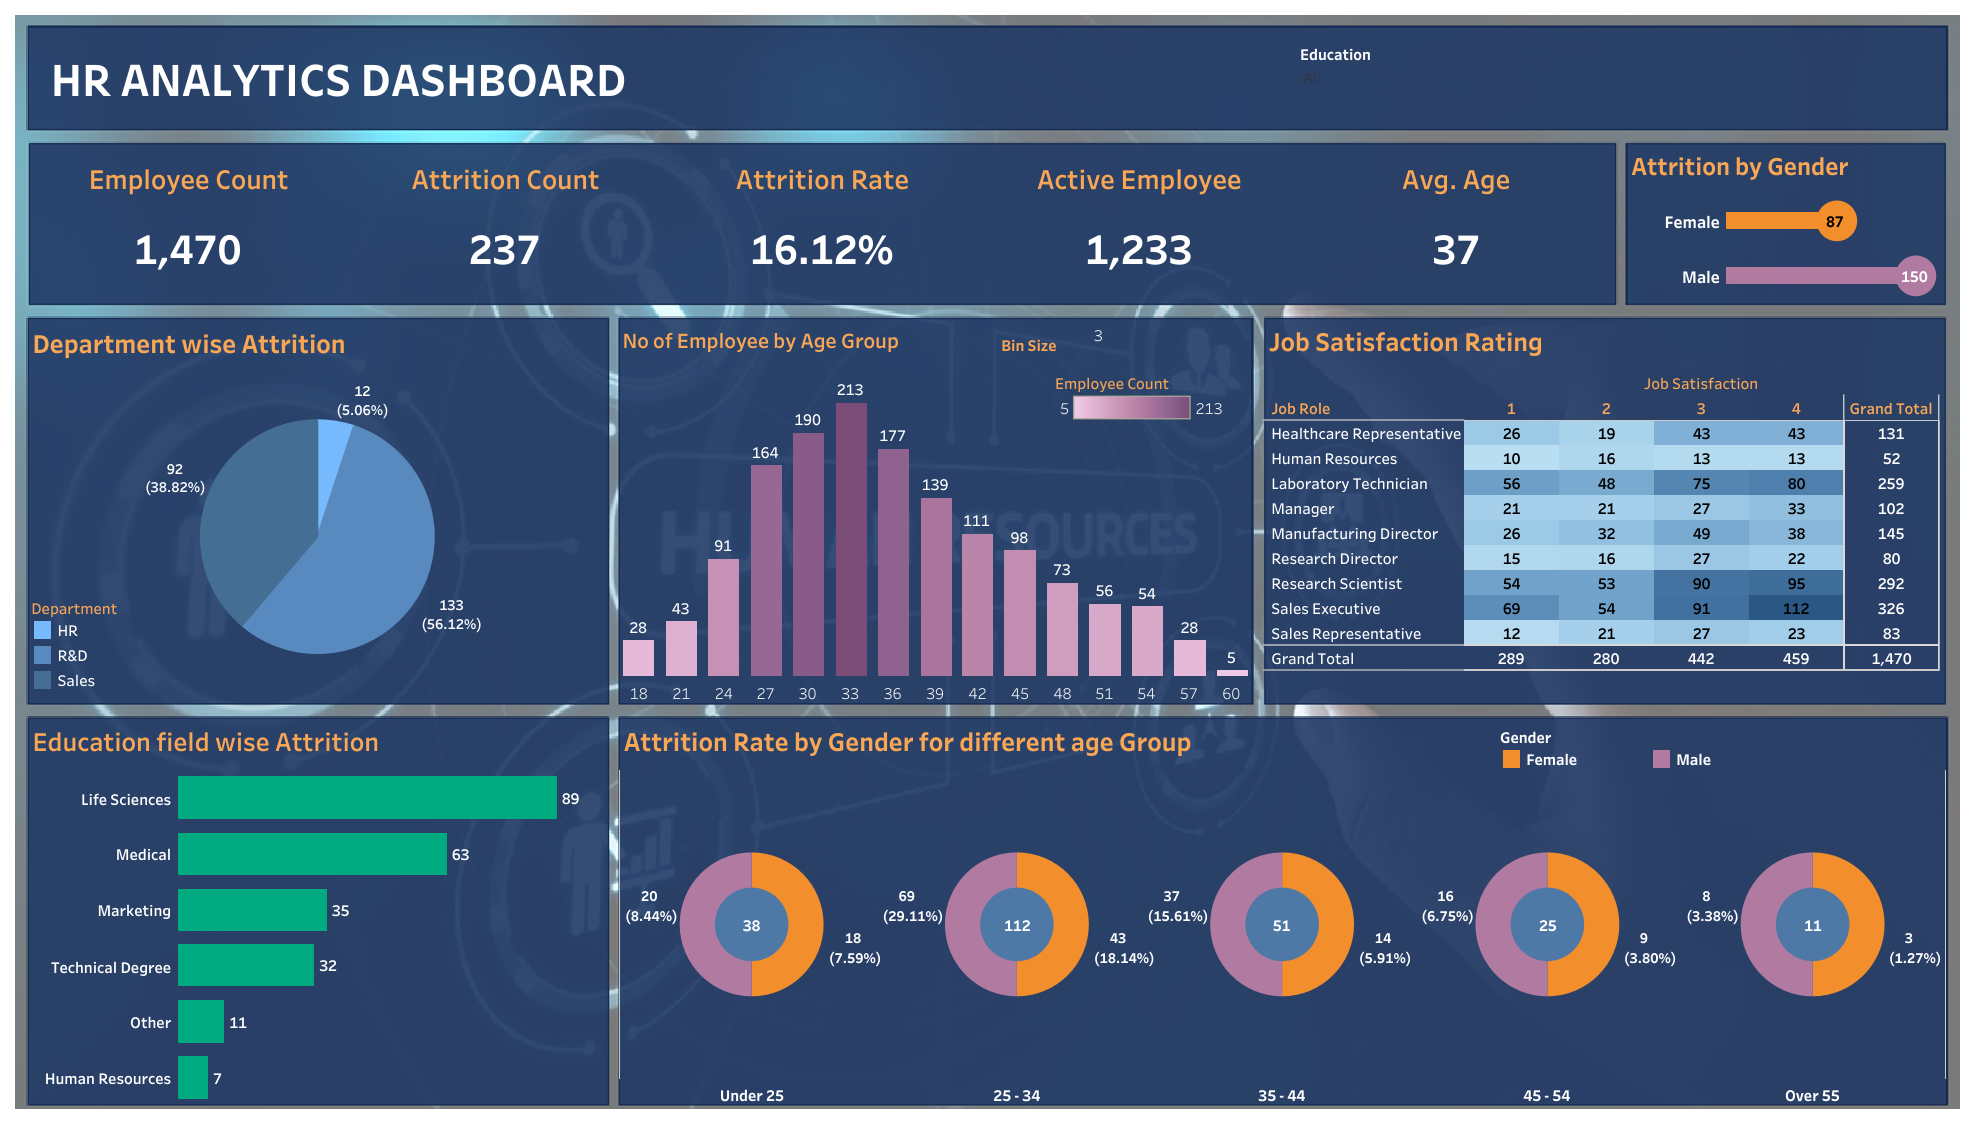

The dashboard page shown, as its layout file describes it:
{"tool":"tableau","page":{"name":"HR ANALYTICS DASHBOARD","canvas":[1580,900],"ordinal":0},"visuals":[{"type":"image","param":"Image/HR Dashboard.png","box":[8,8,1564,884]},{"type":"text","box":[38,24,682,77]},{"type":"filter","title":"Department wise Attrition","param":"[federated.023ztoj037qndx1dsdrbn1u9wdol].[none:Education:nk]","box":[1040,33,246,61]},{"type":"worksheet","title":"Attrition by Gender","mark":"Automatic","rows":["Gender"],"cols":["Calculation_822188459262783488","Calculation_822188459262783488"],"box":[1301,113,256,129]},{"type":"worksheet","title":"KPI","mark":"Automatic","box":[24,117,1268,122]},{"type":"worksheet","title":"Job Satisfaction Rating","mark":"Square","rows":["Job Role"],"cols":["Job Satisfaction"],"box":[1011,253,545,310]},{"type":"worksheet","title":"Department wise Attrition","mark":"Pie","box":[22,254,463,308]},{"type":"worksheet","title":"No of Employee by Age Group","mark":"Automatic","rows":["Employee Count"],"cols":["Age (bin)"],"box":[494,254,508,309]},{"type":"parameter","param":"[Parameters].[Parameter 1]","box":[801,259,197,34]},{"type":"legend","title":"No of Employee by Age Group","param":"[federated.023ztoj037qndx1dsdrbn1u9wdol].[sum:Employee Count:qk]","box":[844,293,139,48]},{"type":"legend","title":"Department wise Attrition","param":"[federated.023ztoj037qndx1dsdrbn1u9wdol].[none:Department:nk]","box":[24,475,140,85]},{"type":"worksheet","title":"Education field wise Attrition","mark":"Bar","rows":["Education Field"],"cols":["Calculation_822188459262783488"],"box":[22,573,464,311]},{"type":"worksheet","title":"Attrition Rate by Gender for different age Group","mark":"Pie","rows":["Calculation_1724034284784181254","Calculation_1724034284784300040"],"cols":["CF_age band"],"box":[495,573,1062,313]},{"type":"legend","title":"Attrition Rate by Gender for different age Group","param":"[federated.023ztoj037qndx1dsdrbn1u9wdol].[none:Gender:nk]","box":[1199,578,356,43]}]}

Visuals, with their boxes in screenshot pixels (x1, y1, x2, y2), scaled from the page's 1580x900 canvas onto the 1974x1124 screenshot:
image: bbox=(10, 10, 1964, 1114)
text: bbox=(47, 30, 900, 126)
"Department wise Attrition" filter: bbox=(1299, 41, 1607, 117)
"Attrition by Gender" worksheet: bbox=(1625, 141, 1945, 302)
"KPI" worksheet: bbox=(30, 146, 1614, 298)
"Job Satisfaction Rating" worksheet (Square marks): bbox=(1263, 316, 1944, 703)
"Department wise Attrition" worksheet (Pie marks): bbox=(27, 317, 606, 702)
"No of Employee by Age Group" worksheet: bbox=(617, 317, 1252, 703)
parameter: bbox=(1001, 323, 1247, 366)
"No of Employee by Age Group" legend: bbox=(1054, 366, 1228, 426)
"Department wise Attrition" legend: bbox=(30, 593, 205, 699)
"Education field wise Attrition" worksheet (Bar marks): bbox=(27, 716, 607, 1104)
"Attrition Rate by Gender for different age Group" worksheet (Pie marks): bbox=(618, 716, 1945, 1107)
"Attrition Rate by Gender for different age Group" legend: bbox=(1498, 722, 1943, 776)
